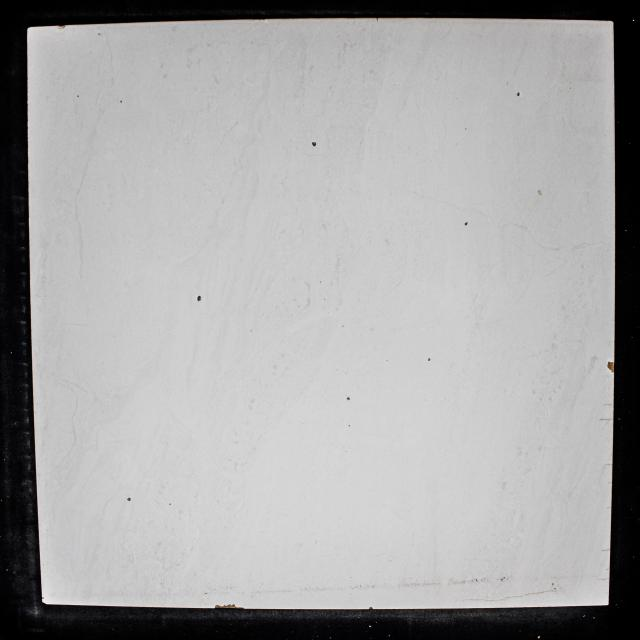edge-chipping: (607, 361, 614, 373), (222, 604, 235, 610), (57, 24, 66, 30), (214, 605, 222, 609), (236, 606, 244, 610), (369, 606, 373, 610)
hole: (197, 296, 201, 302), (312, 142, 316, 147), (464, 221, 468, 226), (127, 497, 131, 502), (516, 92, 520, 96), (427, 358, 431, 362), (346, 397, 351, 400)
line: (465, 590, 553, 601), (598, 418, 614, 421), (598, 578, 609, 581), (603, 403, 613, 406), (601, 549, 610, 551), (605, 464, 612, 466), (608, 482, 612, 484), (607, 506, 611, 508)
